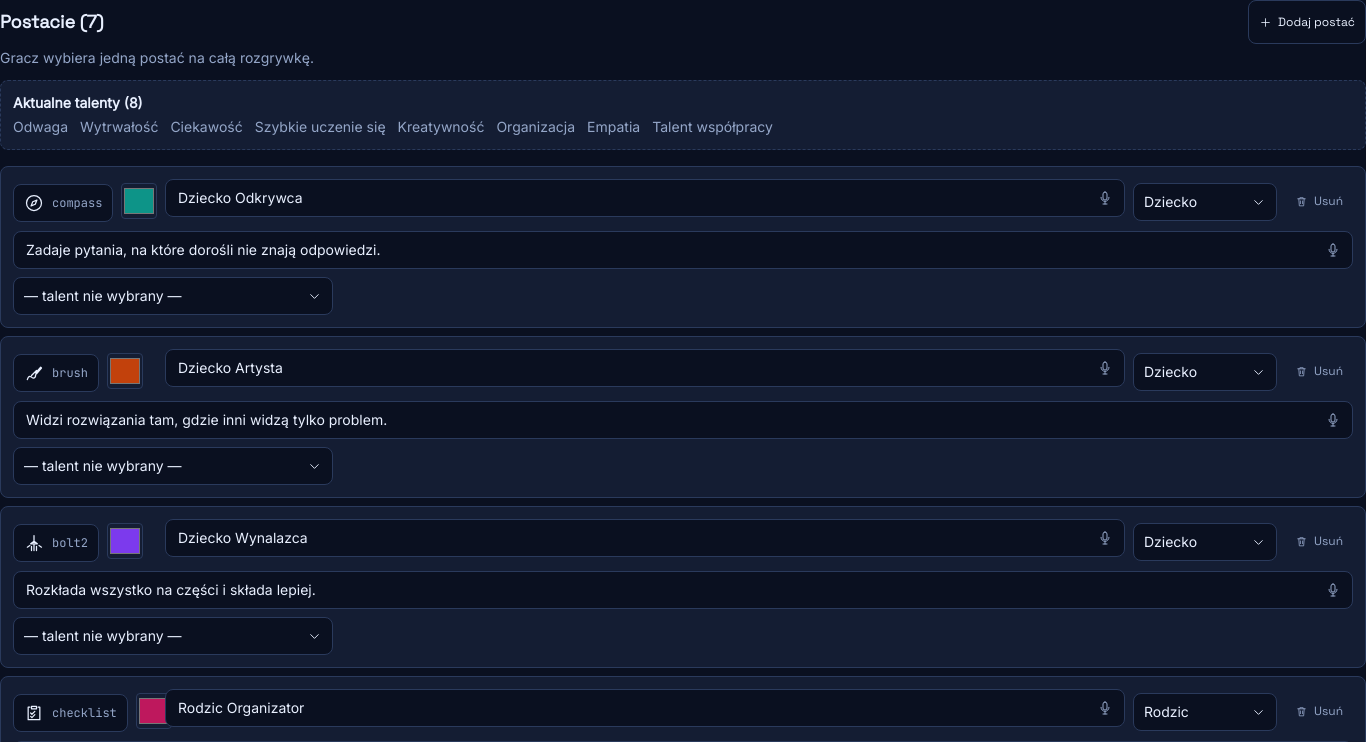
Test case: CharacterEditor › anulowanie w oknie nie usuwa postaci
The image size is (1366, 742).
Click the 1st button "Usuń".
click(1319, 201)  # box [1285, 179, 1353, 223]
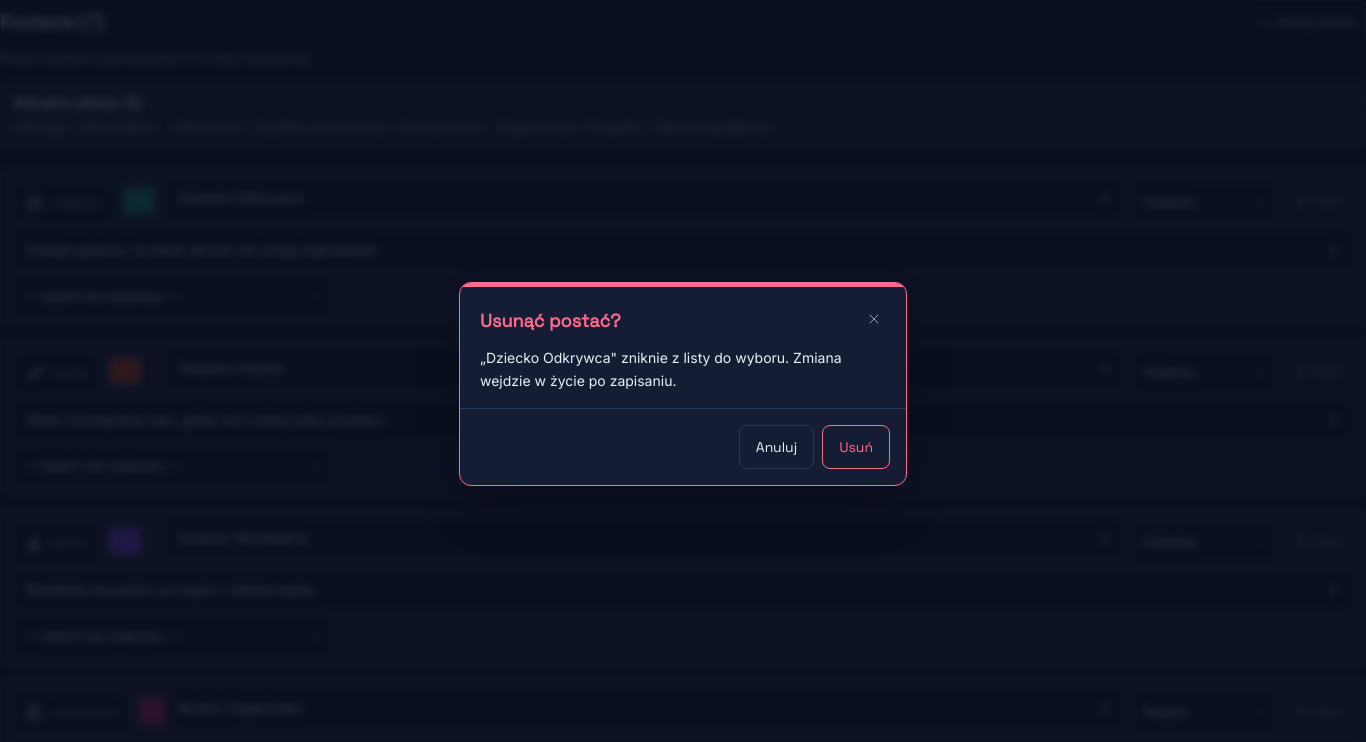
Click the button "Anuluj".
click(776, 447)  # box [739, 425, 814, 469]
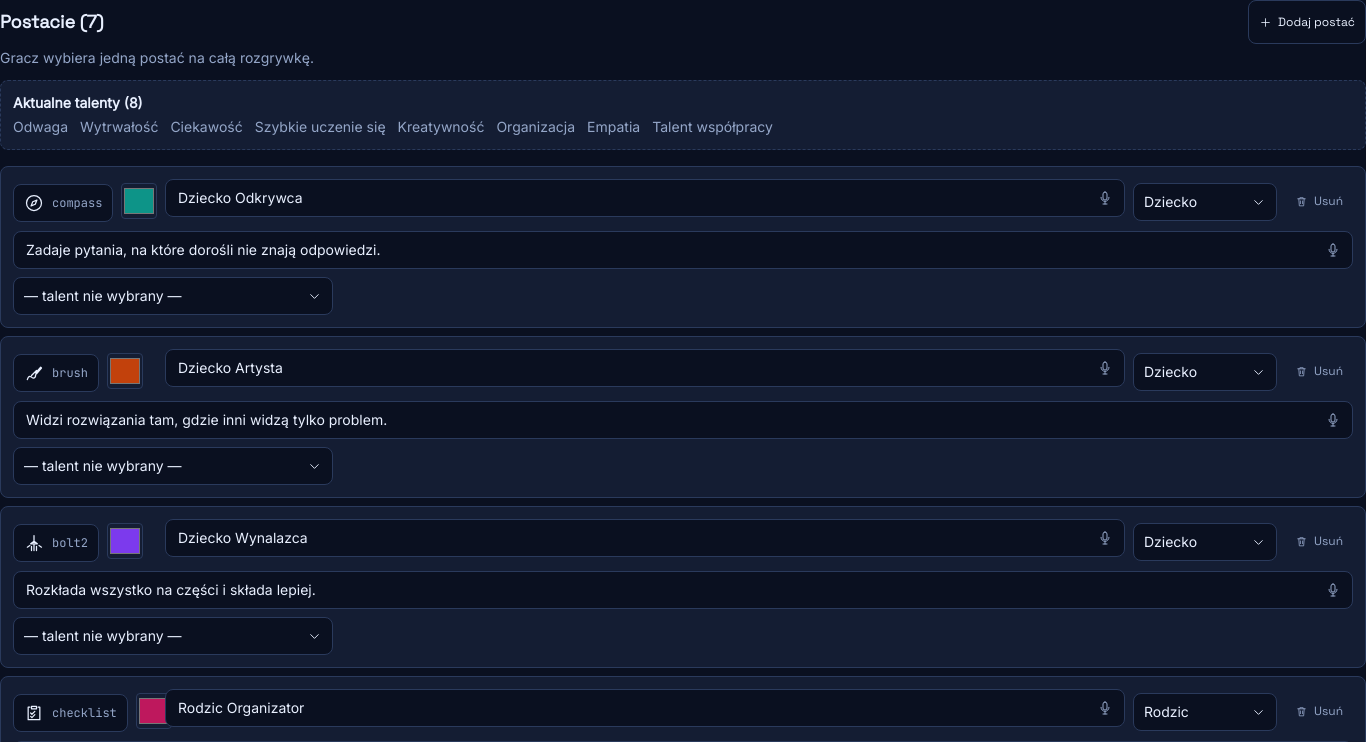
Expected: the dialog is gone
